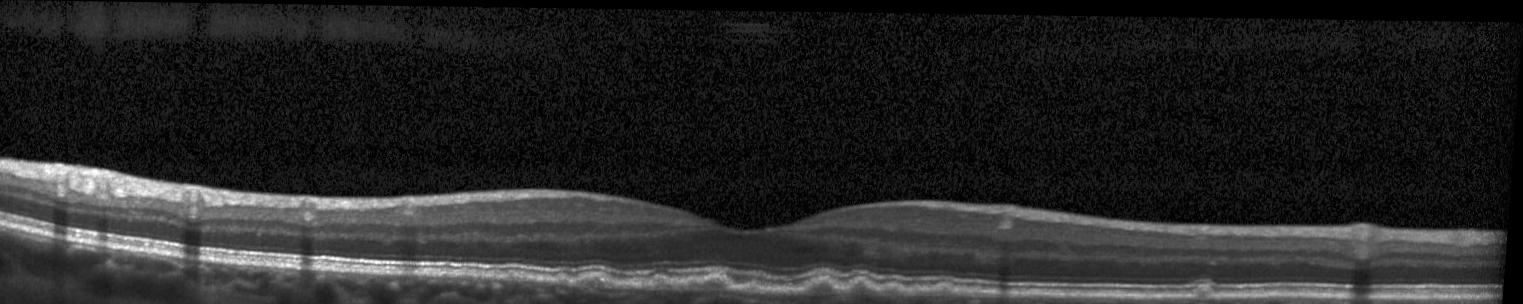retinal_drusen: (855, 277, 882, 292), (812, 278, 836, 292), (581, 275, 609, 287), (657, 275, 677, 288), (707, 278, 726, 289), (940, 283, 959, 293), (887, 283, 908, 292), (747, 283, 770, 291), (692, 277, 706, 288), (1203, 285, 1213, 296), (563, 277, 575, 284)
